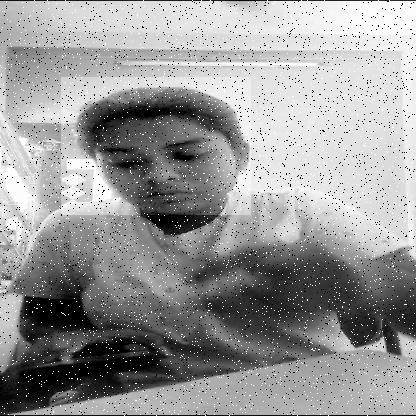Normal: (62, 77, 252, 215)
